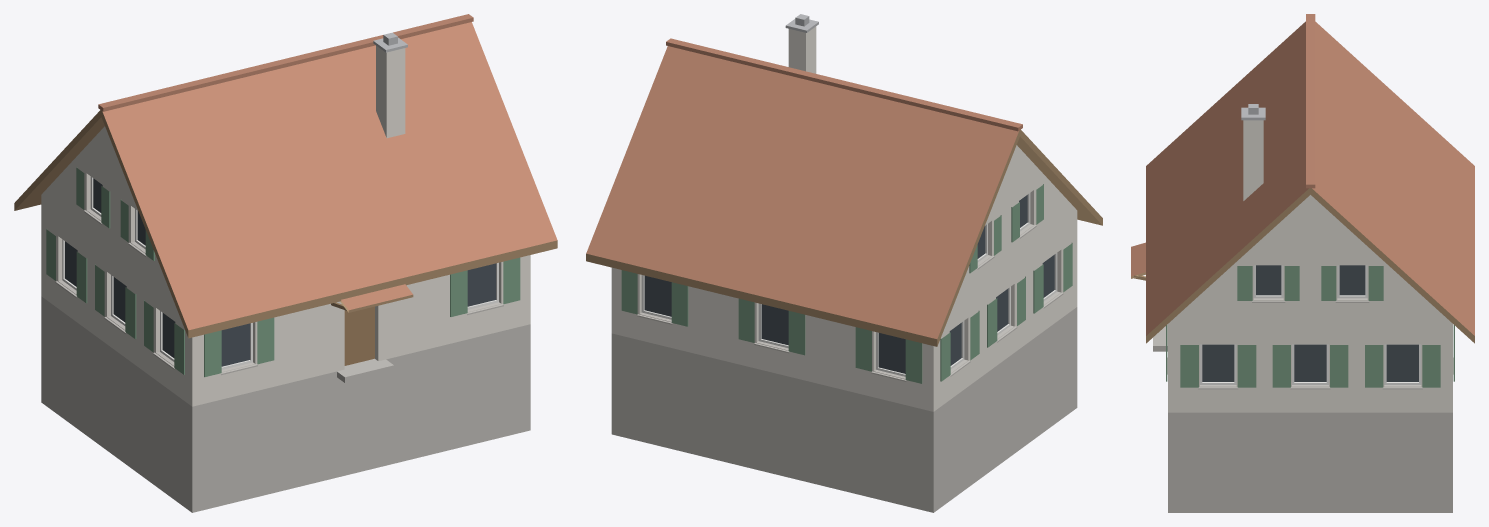
Rendered from house_gable_1_m.glb.
3 renders of one model, left to right at view 1: azimuth 30°, elevation 25°; view 2: azimuth 150°, elevation 25°; view 3: azimuth 270°, elevation 25°, orthographic. The views are drawn at different scales.
Parts seen in each view (by area): view 1: house_gable_1_m; view 2: house_gable_1_m; view 3: house_gable_1_m.
Part boxes in pixels (x1,y1,x2,y2): house_gable_1_m: [14, 14, 557, 512]; house_gable_1_m: [586, 14, 1102, 512]; house_gable_1_m: [1131, 14, 1474, 512].
Size of the model in its own units: 12.04 by 11.95 by 10.25.
